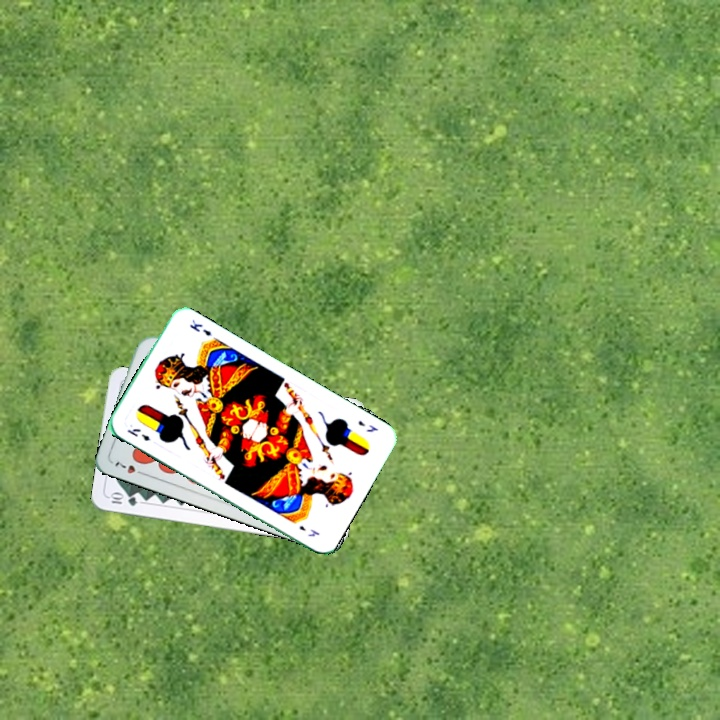EK: (124, 424, 153, 444), (354, 416, 380, 435)
G10: (105, 490, 140, 509)
H7: (111, 457, 148, 478)
